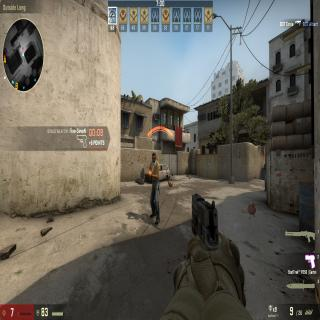T-Body: (148, 151, 160, 225)
T-Head: (151, 150, 157, 166)
